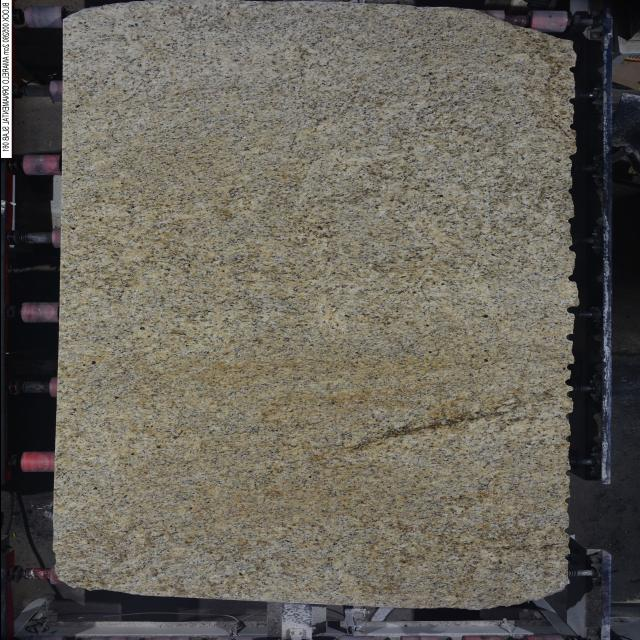chapa: (54, 0, 578, 608)
furo: (460, 3, 582, 57)
veio: (562, 302, 580, 318), (564, 332, 578, 344)
